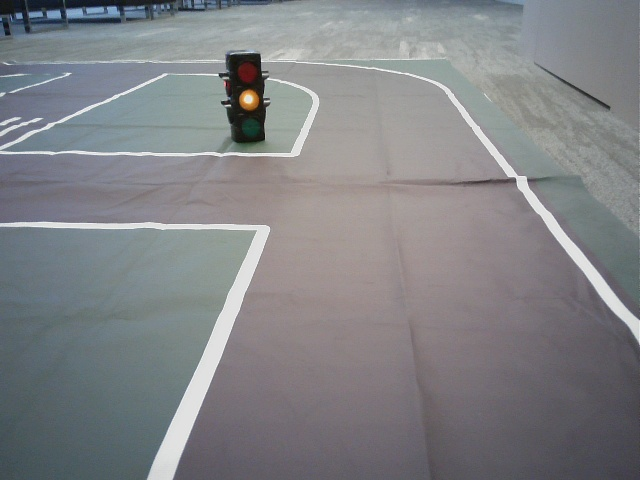yellow: (228, 56, 264, 138)
